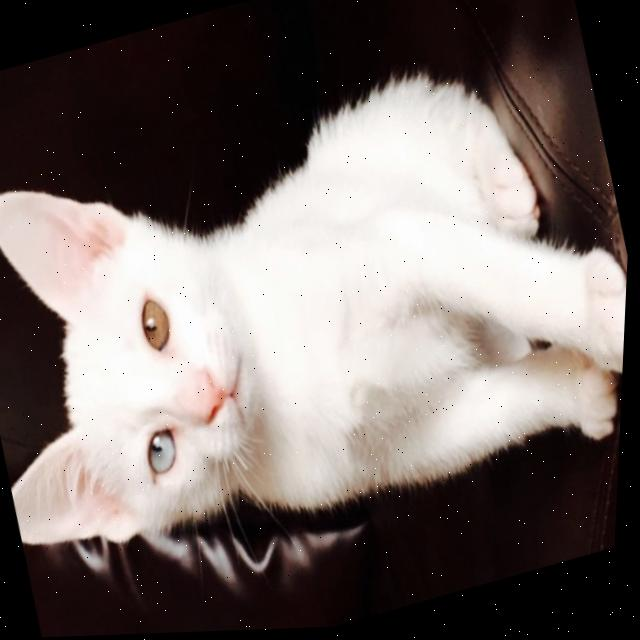Khao Manee: (0, 17, 639, 615)
